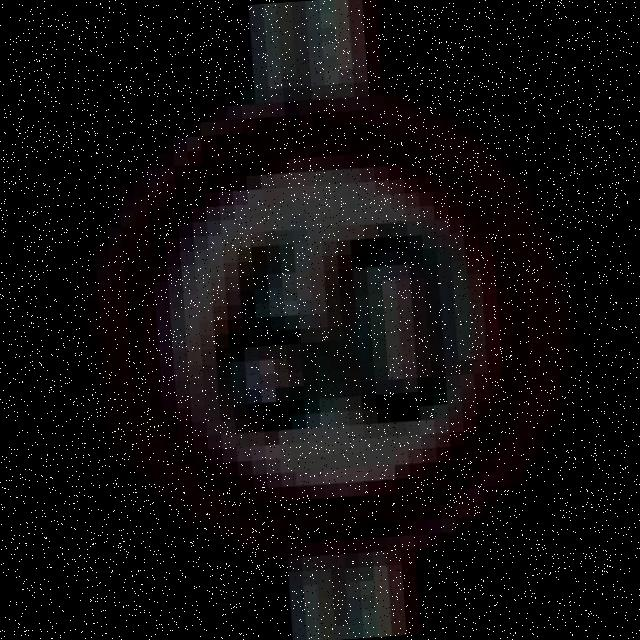Ograniczenie predkosci do 60: (17, 12, 640, 611)
